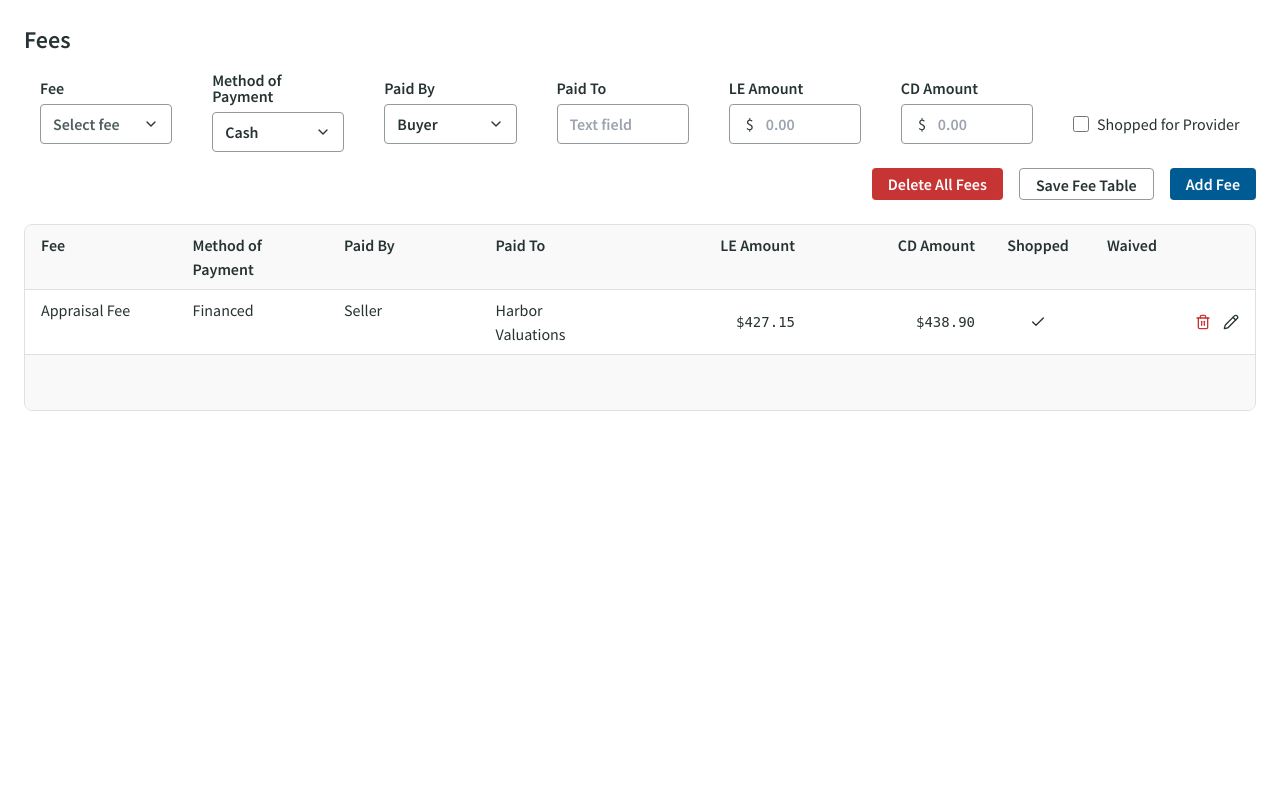
Test: FeesContent › groups delete and edit in one action column and leaves table cells read-only
Step 1. Click the button with test id "button-edit-fee-edit-target" → (1231, 322), box [1223,314,1239,330]
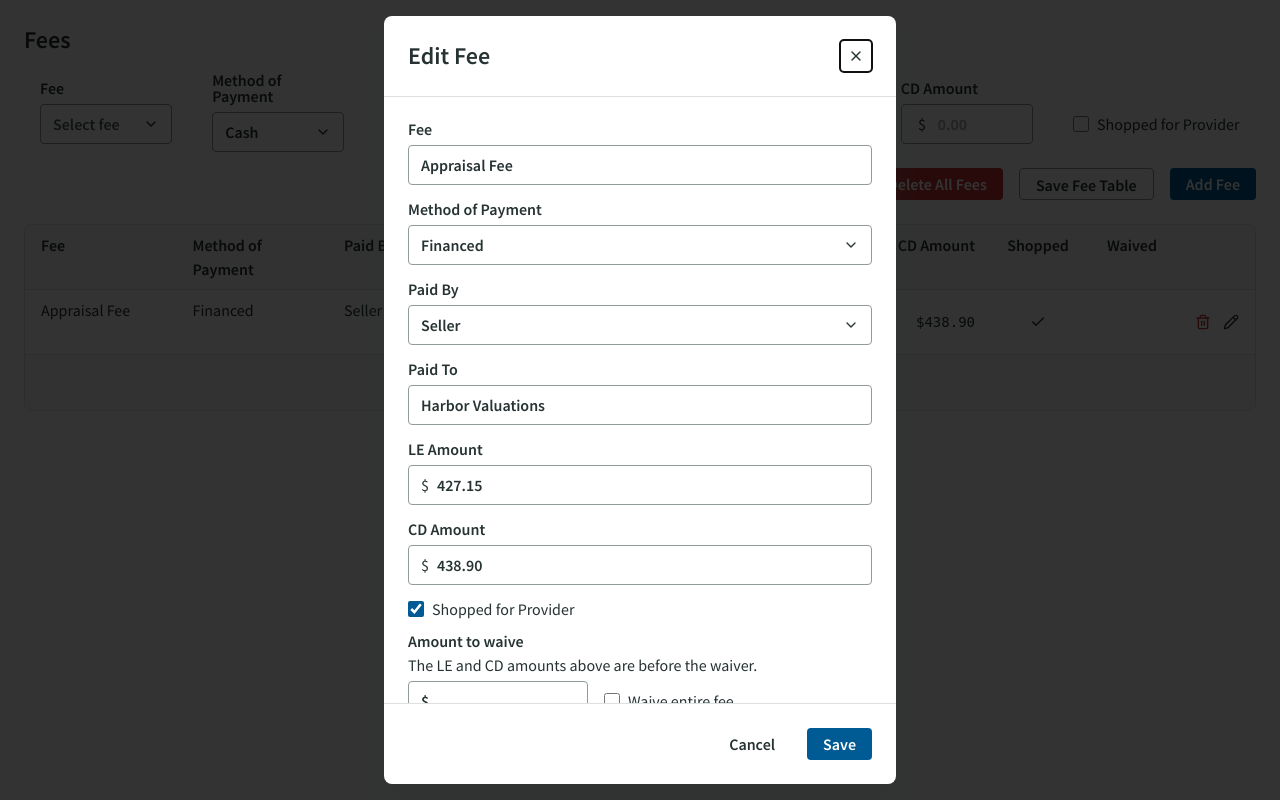
Check: the field named "Fee" holds "Appraisal Fee", box [408,145,872,185]
Check: the button with aria-label "Method of Payment" reads "Financed", box [408,225,872,265]
Check: the button with aria-label "Paid By" reads "Seller", box [408,305,872,345]
